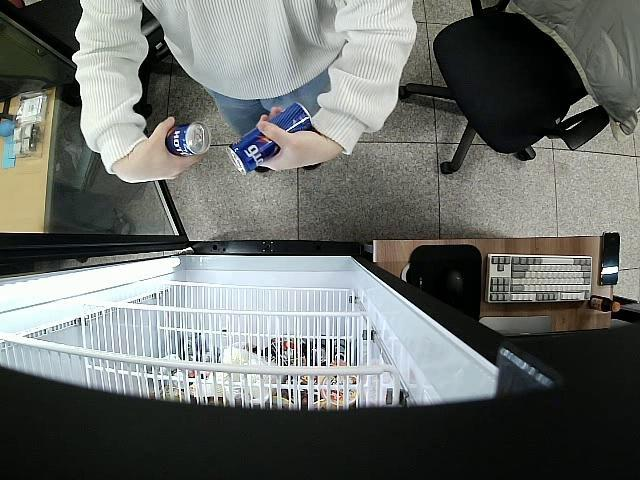16_hot6: (226, 101, 312, 176), (256, 105, 330, 172), (164, 122, 212, 156)
